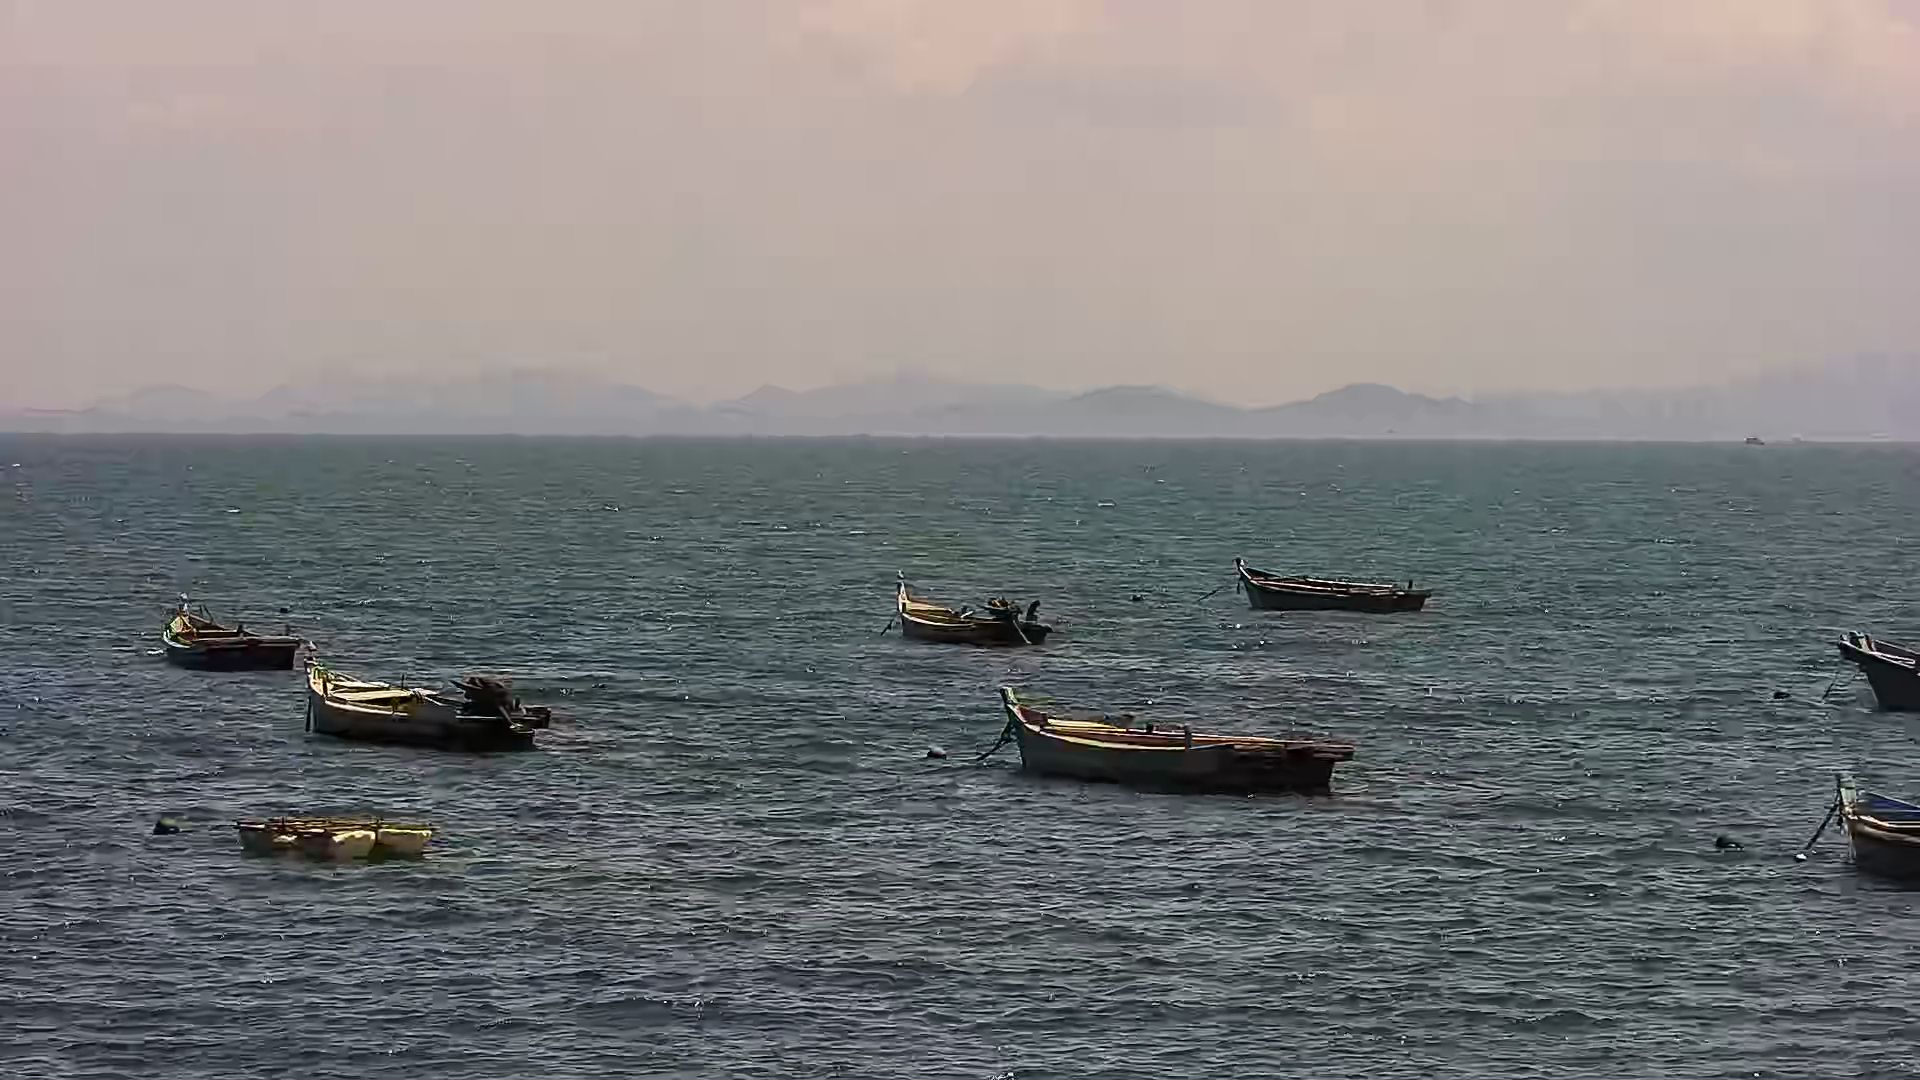boat: (969, 678, 1360, 808), (298, 661, 568, 764), (877, 568, 1062, 651), (1215, 554, 1451, 618), (146, 593, 298, 684)
rubbish: (210, 814, 471, 865)
